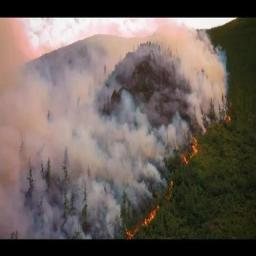Heavy smoke: (0, 0, 233, 255)
Small fire: (86, 92, 243, 240)
